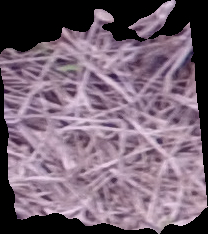soil: (1, 1, 208, 232)
